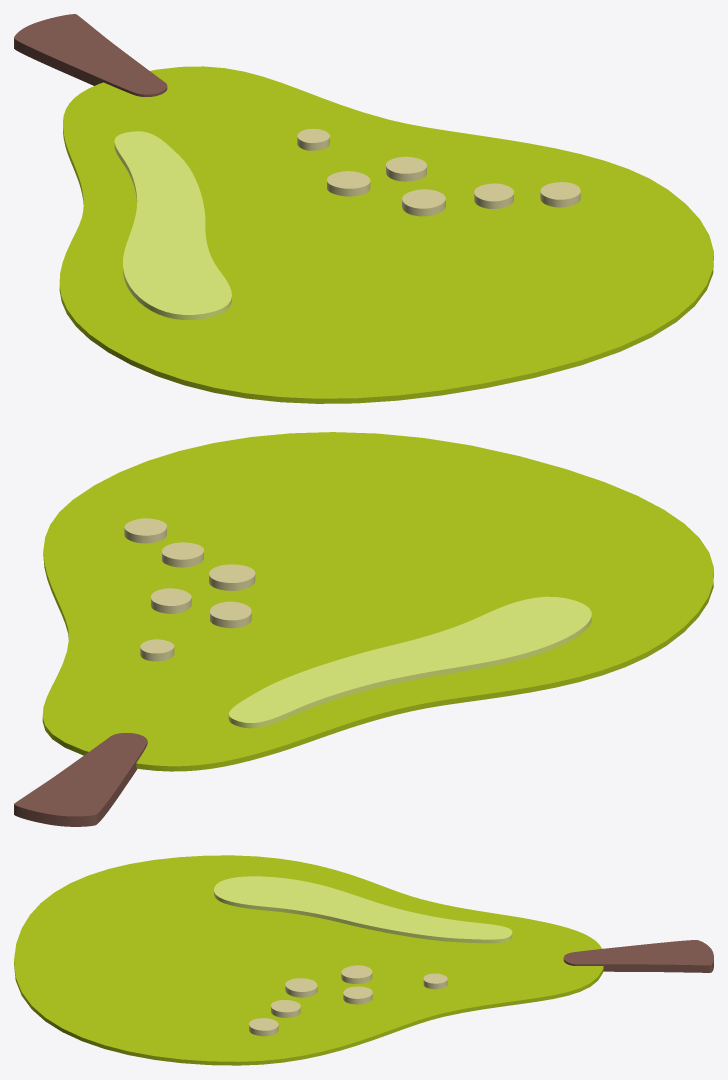
File: emoji_u1f350.glb
The picture shows the model from 3 angles, top to bottom: view 1: azimuth 30°, elevation 25°; view 2: azimuth 150°, elevation 25°; view 3: azimuth 270°, elevation 25°; orthographic projection. The views are drawn at different scales.
Visible parts, largest first — view 1: emoji_u1f350; view 2: emoji_u1f350; view 3: emoji_u1f350.
Part boxes in pixels (x1,y1,x2,y2): emoji_u1f350: (14, 14, 713, 403); emoji_u1f350: (14, 432, 713, 826); emoji_u1f350: (14, 855, 713, 1065).
Size of the model in its own units: 0.0236 by 0.0008 by 0.0338.
